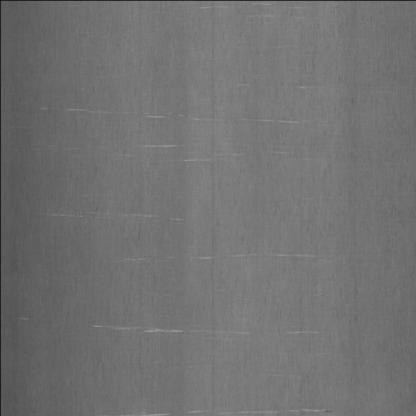waist_folding: (63, 35, 352, 374)
